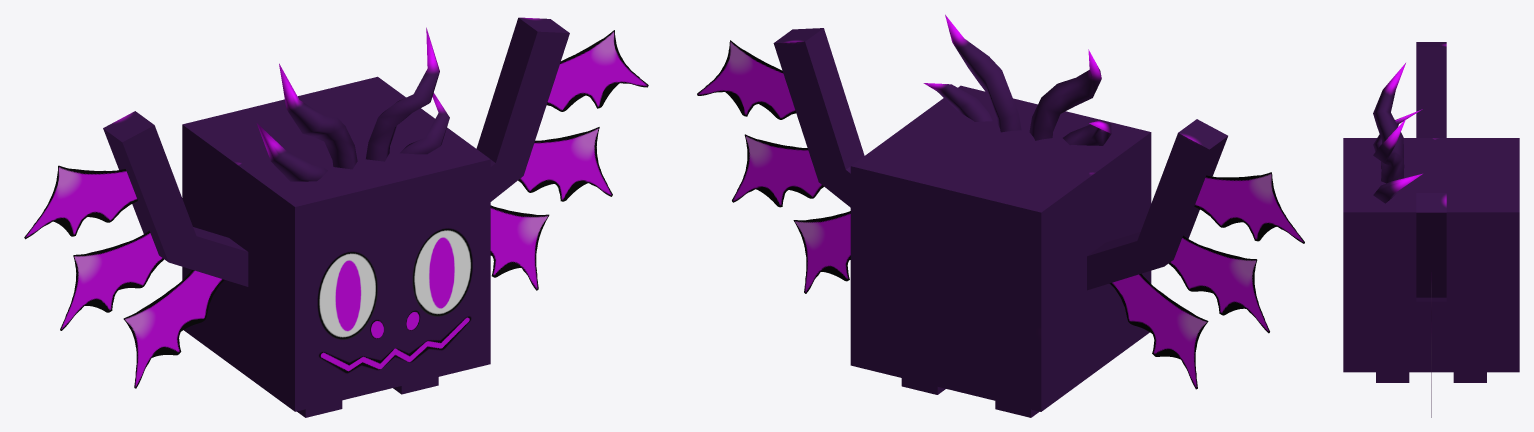
File: Evil Bat.fbx
3 renders of one model, left to right at view 1: azimuth 30°, elevation 25°; view 2: azimuth 150°, elevation 25°; view 3: azimuth 270°, elevation 25°, orthographic. The views are drawn at different scales.
Parts seen in each view (by area): view 1: Evil Bat; view 2: Evil Bat; view 3: Evil Bat.
Boxes of the visible parts, x1=… form: Evil Bat: x1=24, y1=17, x2=648, y2=417; Evil Bat: x1=697, y1=14, x2=1304, y2=417; Evil Bat: x1=1343, y1=42, x2=1519, y2=417.
Bounding box in the file's own units: 1204 × 612 × 366.
Materials: 1 (1 with a texture image).
